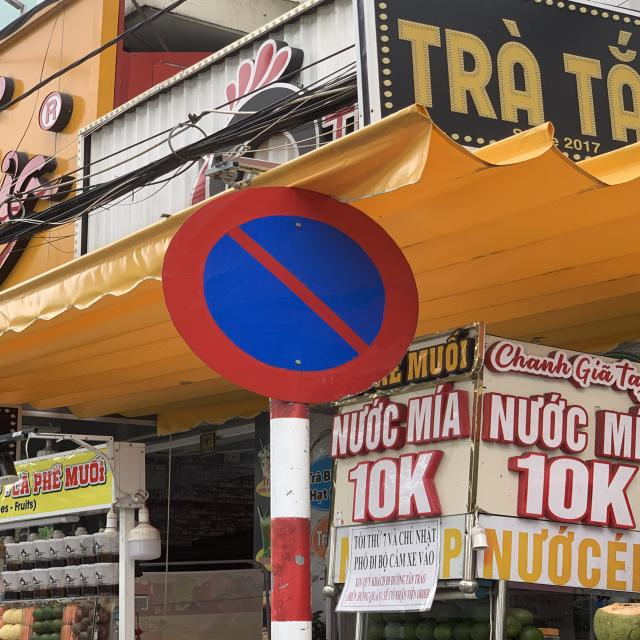Cam_Dau_Xe: (163, 184, 422, 406)
